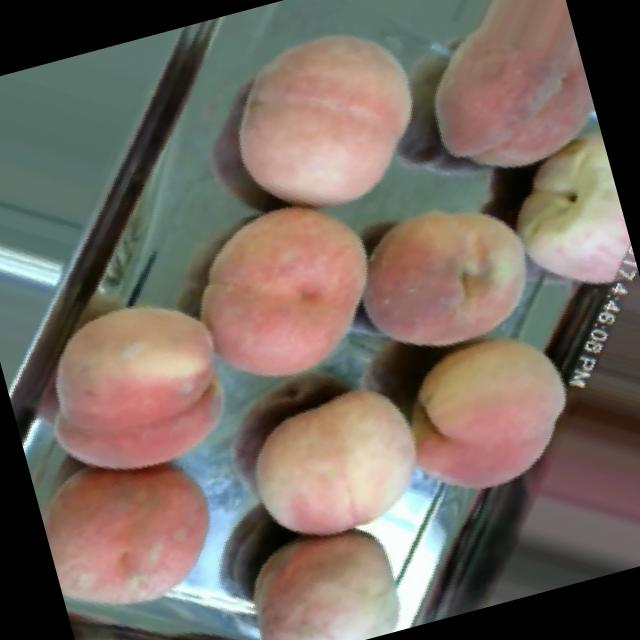Fruit: (0, 254, 265, 520), (155, 164, 409, 417), (193, 0, 453, 246), (374, 308, 618, 540), (315, 158, 570, 376), (29, 415, 257, 640), (371, 0, 610, 213), (212, 350, 448, 555), (211, 495, 431, 640), (477, 138, 640, 328)
